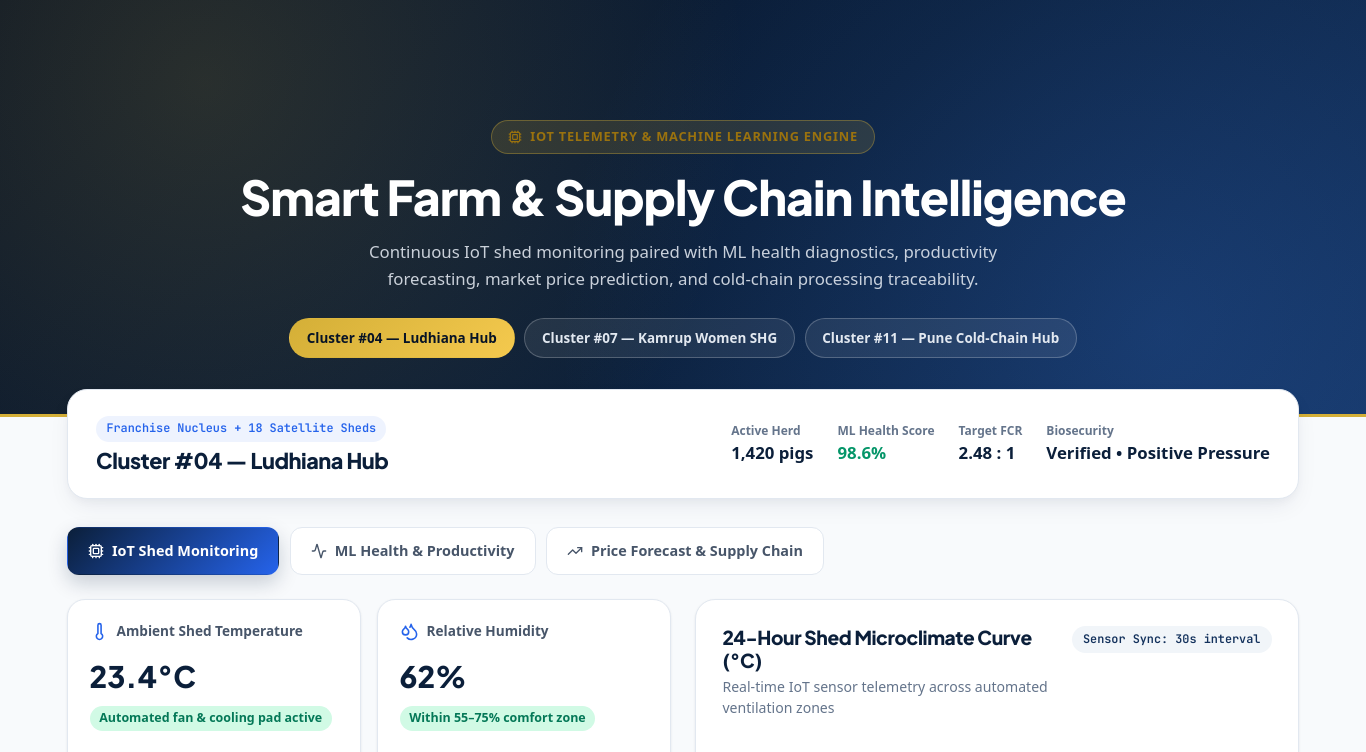
Test: renders SmartFarm IoT and ML intelligence dashboard and switches tabs
The image size is (1366, 752).
Expected: the heading "Smart Farm & Supply Chain Intelligence" is shown, [240, 168, 1126, 225]
Expected: the button "IoT Shed Monitoring" is shown, [67, 527, 279, 574]
Click the button "ML Health & Productivity": (413, 551) [290, 527, 536, 574]
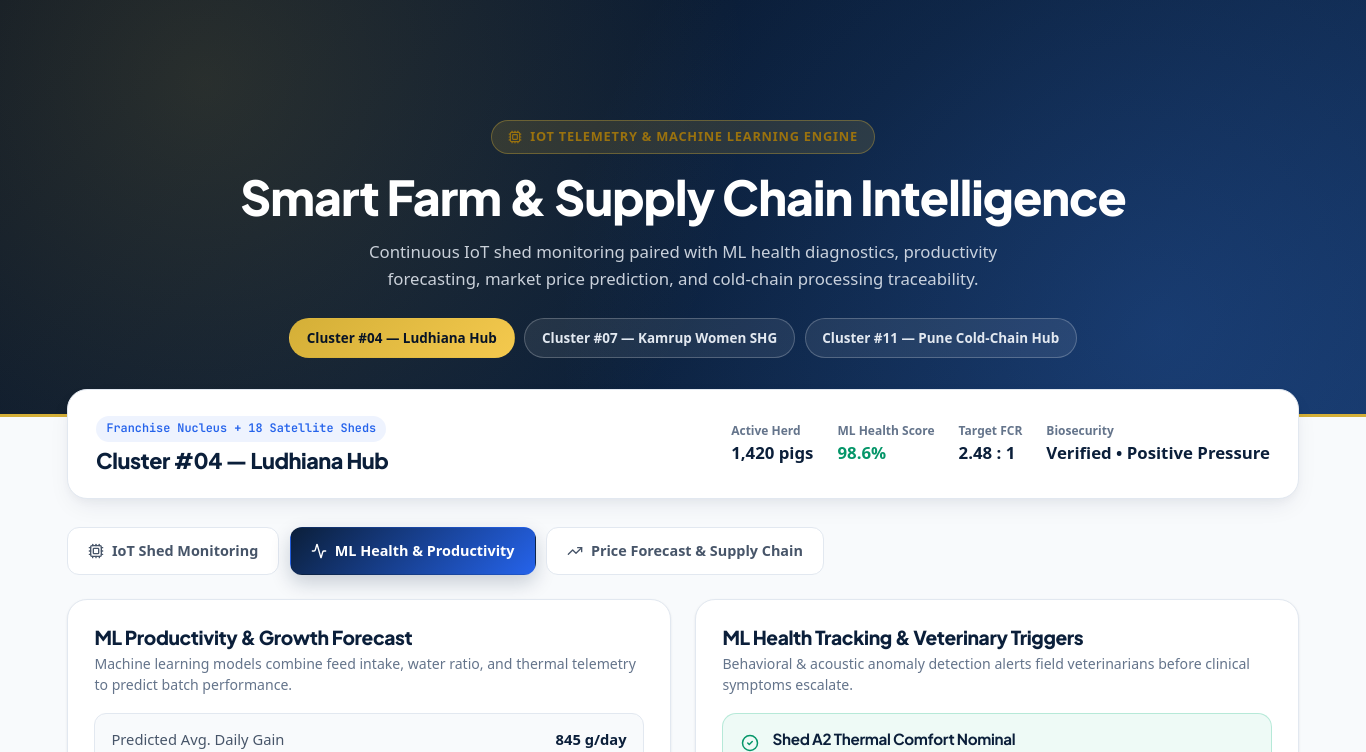
Expected: the heading "ML Productivity & Growth Forecast" is shown, [94, 625, 412, 649]
